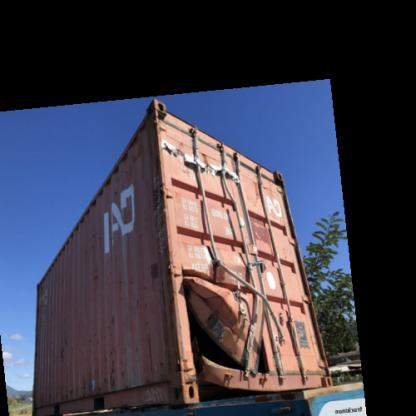Damage: (155, 155, 290, 396)
